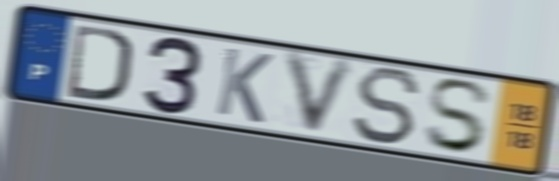3: (138, 33, 207, 117)
D: (64, 21, 134, 105)
K: (212, 44, 276, 127)
S: (349, 64, 424, 148), (421, 76, 496, 156)
V: (280, 48, 363, 141)
